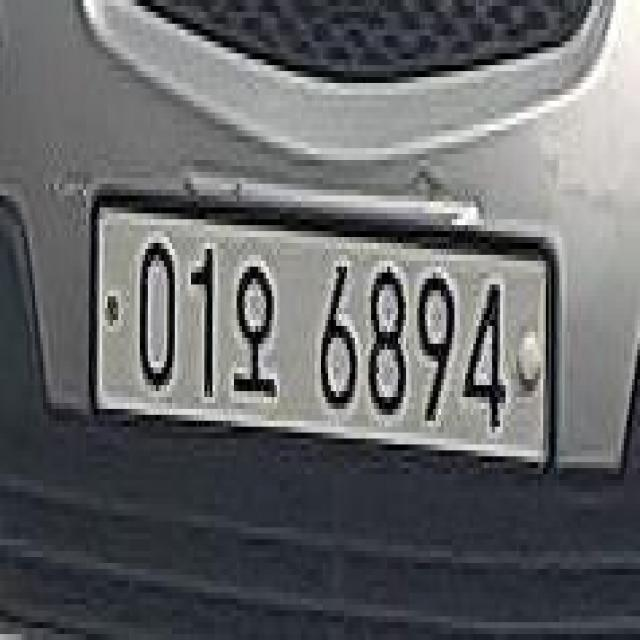illegal_plate: (88, 176, 557, 494)
